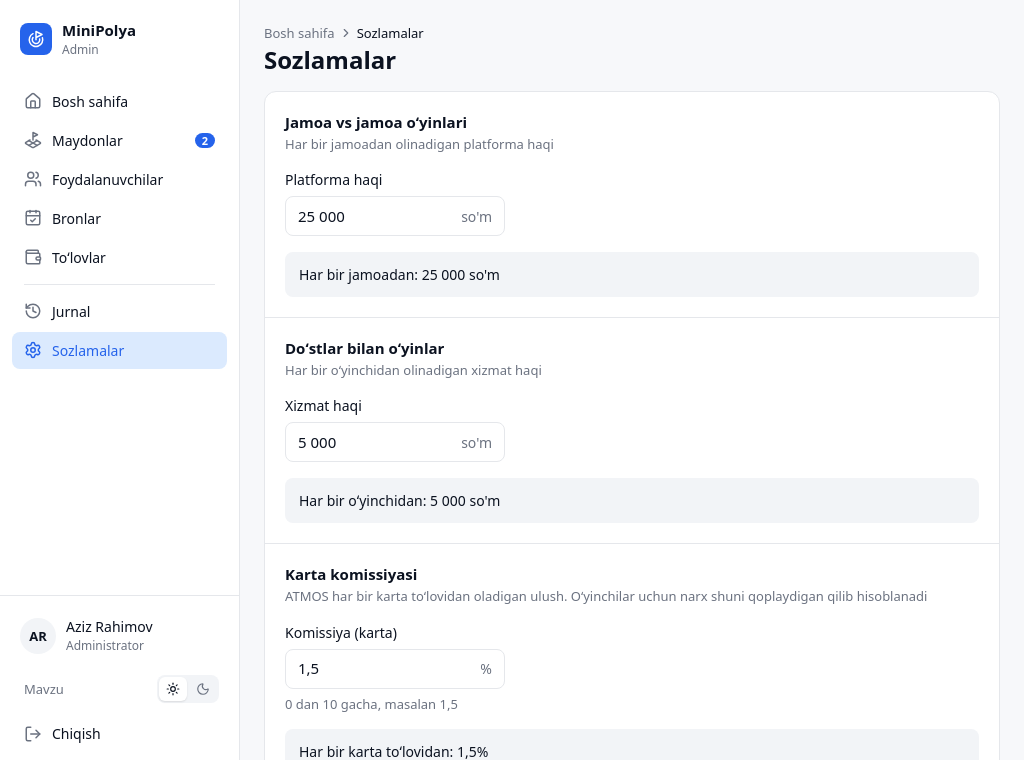
Sozlamalar › saves the card fee in basis points and the rounding step in tiyin
Replace the text in the field labelled "Komissiya (karta)" with "2,25": {"x": 385, "y": 668} [298,658,472,679]
(page scrolled)
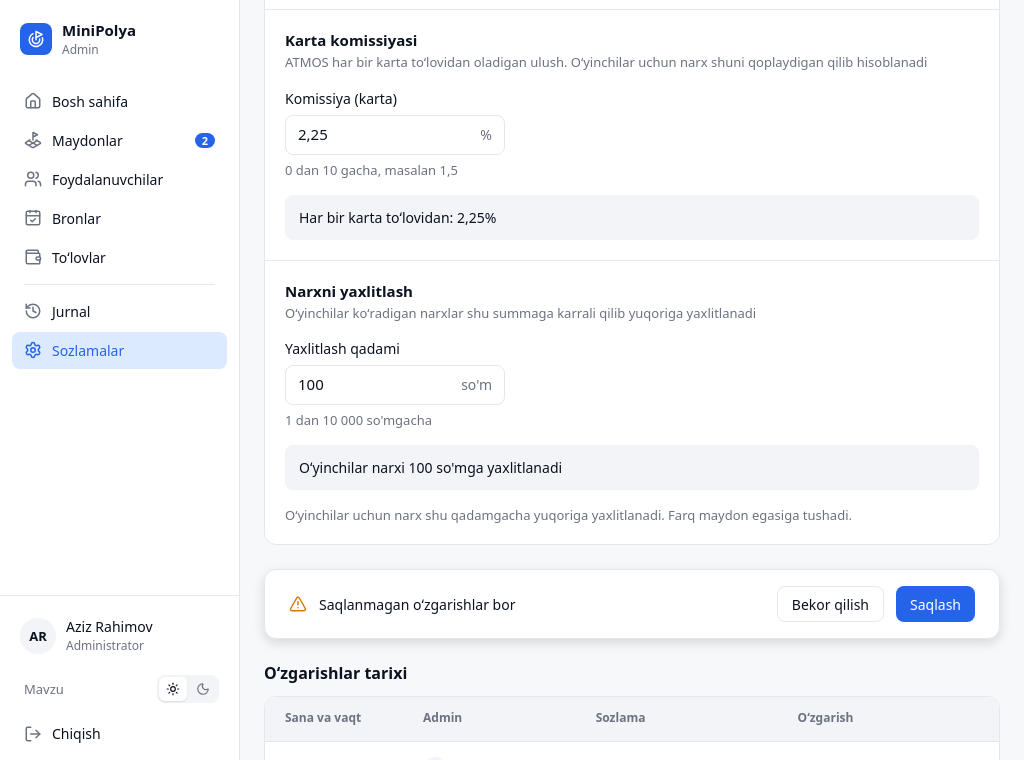
Replace the text in the field labelled "Yaxlitlash qadami" with "1 000": {"x": 376, "y": 385} [298,374,453,395]
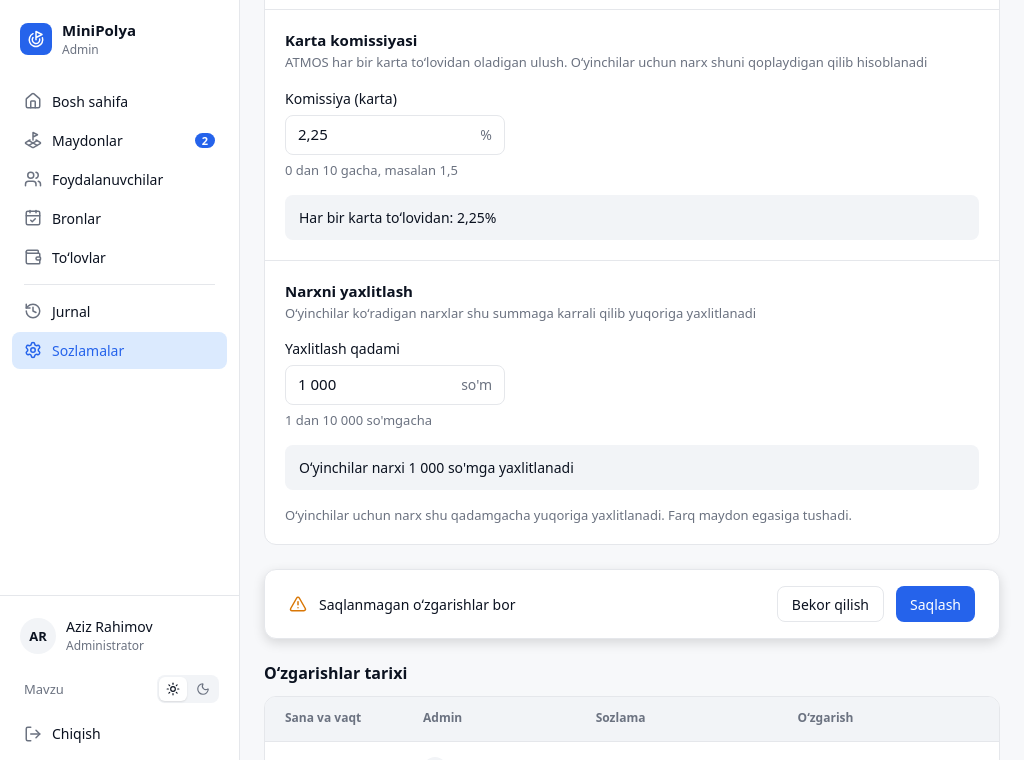
Click the button "Saqlash": {"x": 936, "y": 604} [896,586,975,622]
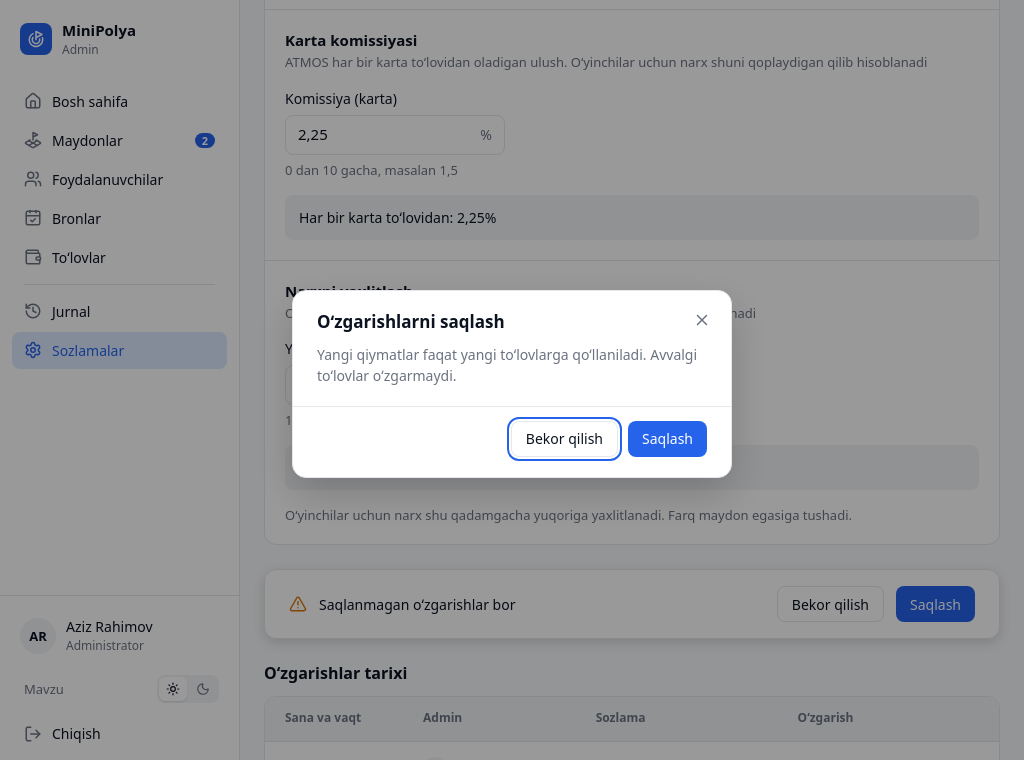
Click the button "Saqlash": {"x": 668, "y": 438} [628,420,707,456]
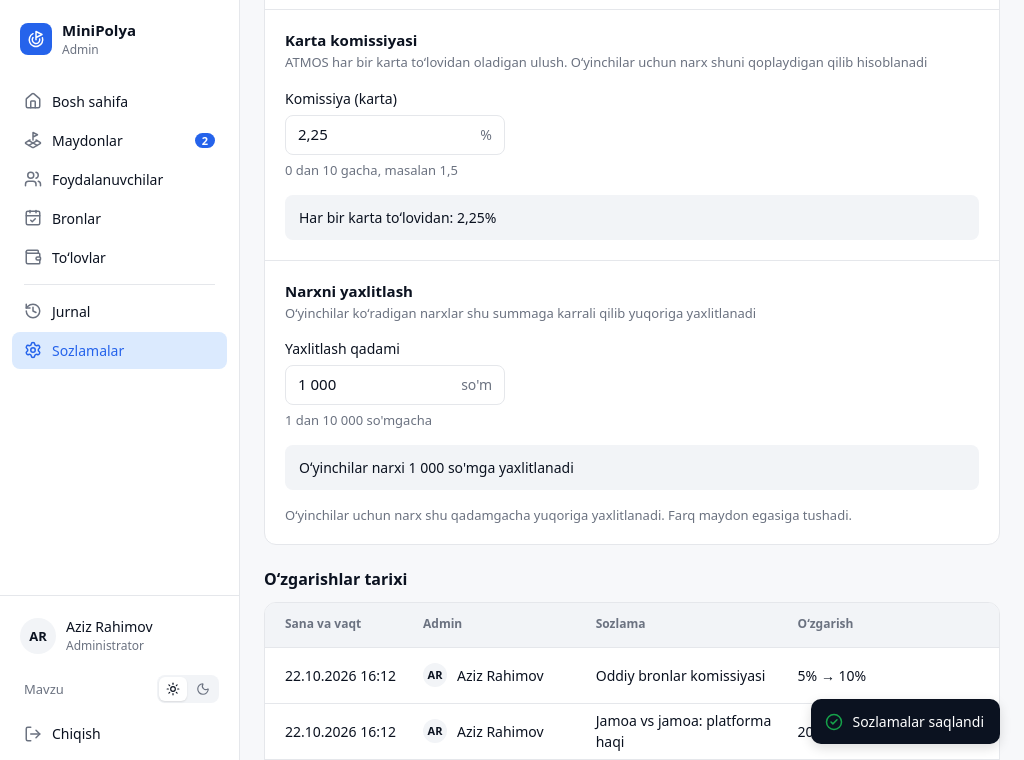
Expected: the text "Sozlamalar saqlandi" is shown, [853,711,984,732]
